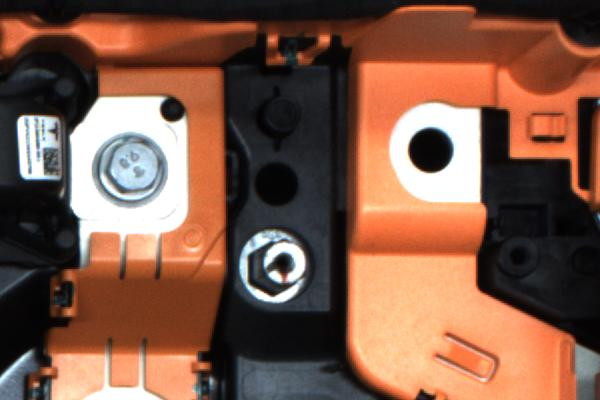nut_b: (89, 134, 177, 210)
